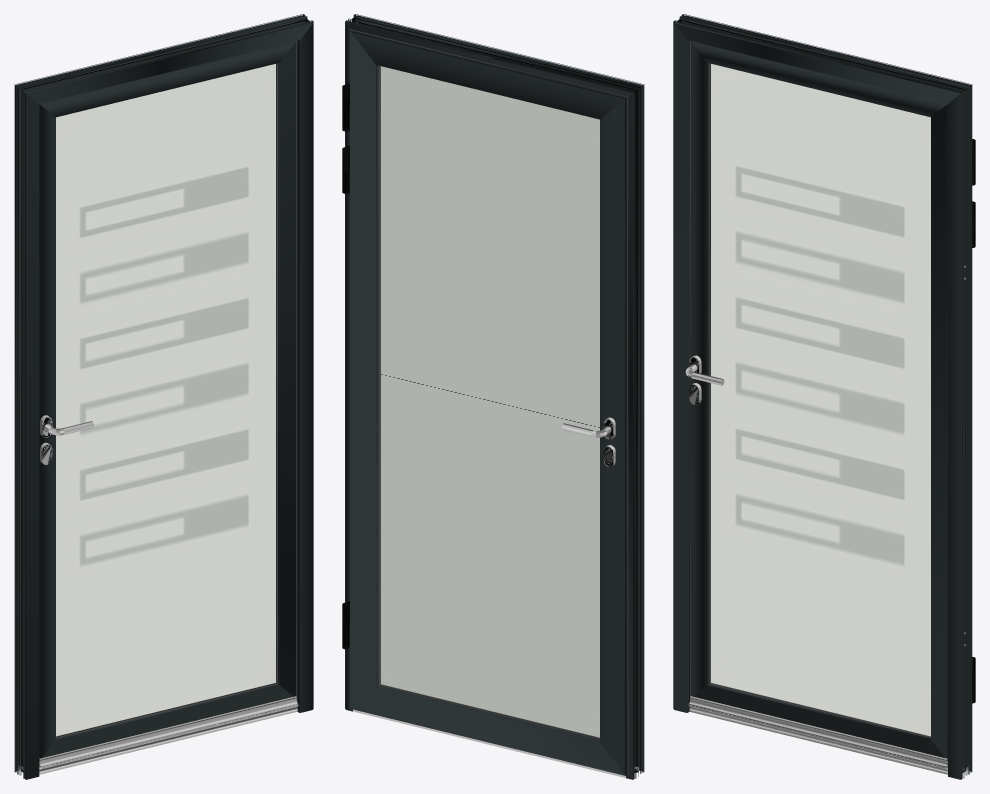
3 views of the same model, side by side, from view 1: azimuth 30°, elevation 25°; view 2: azimuth 150°, elevation 25°; view 3: azimuth 330°, elevation 25° (orthographic).
Parts seen in each view (by area): view 1: ouvrant, 30_architect; view 2: ouvrant, 30_architect; view 3: ouvrant, 30_architect.
Boxes of the visible parts, x1,y1,x2,y2 form: ouvrant: [20, 21, 298, 768]; 30_architect: [14, 14, 313, 779]; ouvrant: [342, 29, 628, 776]; 30_architect: [342, 14, 644, 779]; ouvrant: [688, 21, 975, 768]; 30_architect: [673, 14, 975, 779].
Bounding box in the file's own units: 96 × 218 × 20.21.
1 material, 1 textured.
